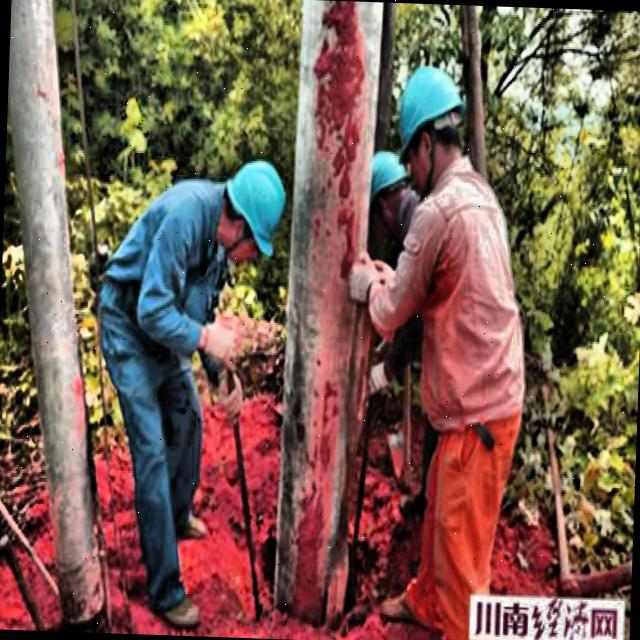helmet: (389, 62, 468, 196), (212, 152, 285, 266), (366, 147, 411, 230)
